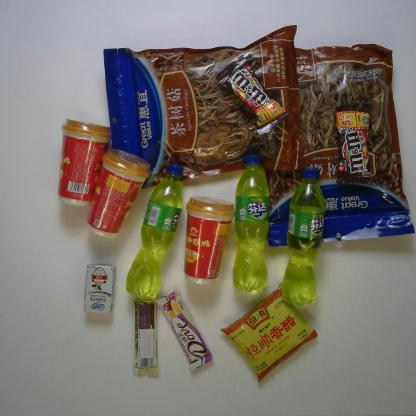Chocolate: (217, 56, 289, 136), (156, 290, 212, 371), (334, 102, 372, 184), (132, 288, 157, 379)
Dried Food: (102, 26, 306, 192), (265, 43, 416, 247)
Drink: (124, 164, 185, 300), (280, 167, 327, 306), (233, 153, 271, 293)
Instant Drink: (85, 146, 152, 240), (57, 115, 112, 207), (182, 194, 233, 286)
Milk: (83, 263, 116, 315)
Seasoner: (219, 283, 319, 383)
